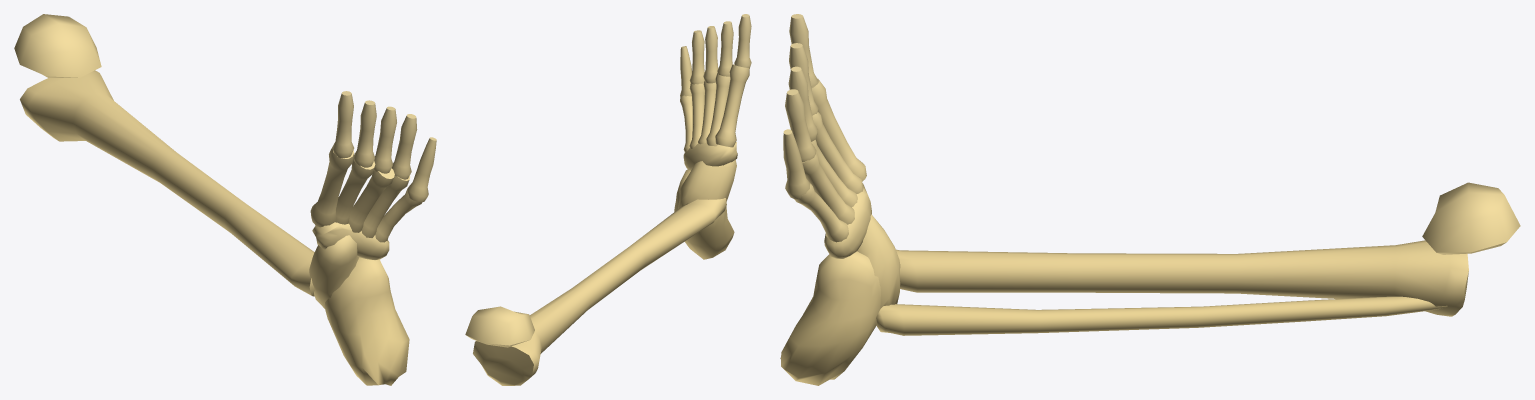
The model's file is Skeleton_Parts_01.glb.
3 views of the same model, side by side, from view 1: azimuth 30°, elevation 25°; view 2: azimuth 150°, elevation 25°; view 3: azimuth 270°, elevation 25° (orthographic). The views are drawn at different scales.
Parts seen in each view (by area): view 1: Skeleton_Parts_01; view 2: Skeleton_Parts_01; view 3: Skeleton_Parts_01.
Boxes of the visible parts, bbox=[...] form: Skeleton_Parts_01: bbox=[14, 14, 436, 385]; Skeleton_Parts_01: bbox=[465, 14, 751, 385]; Skeleton_Parts_01: bbox=[780, 14, 1520, 385].
Bounding box in the file's own units: 0.1214 × 0.3093 × 0.6007.
1 material, 1 textured.
